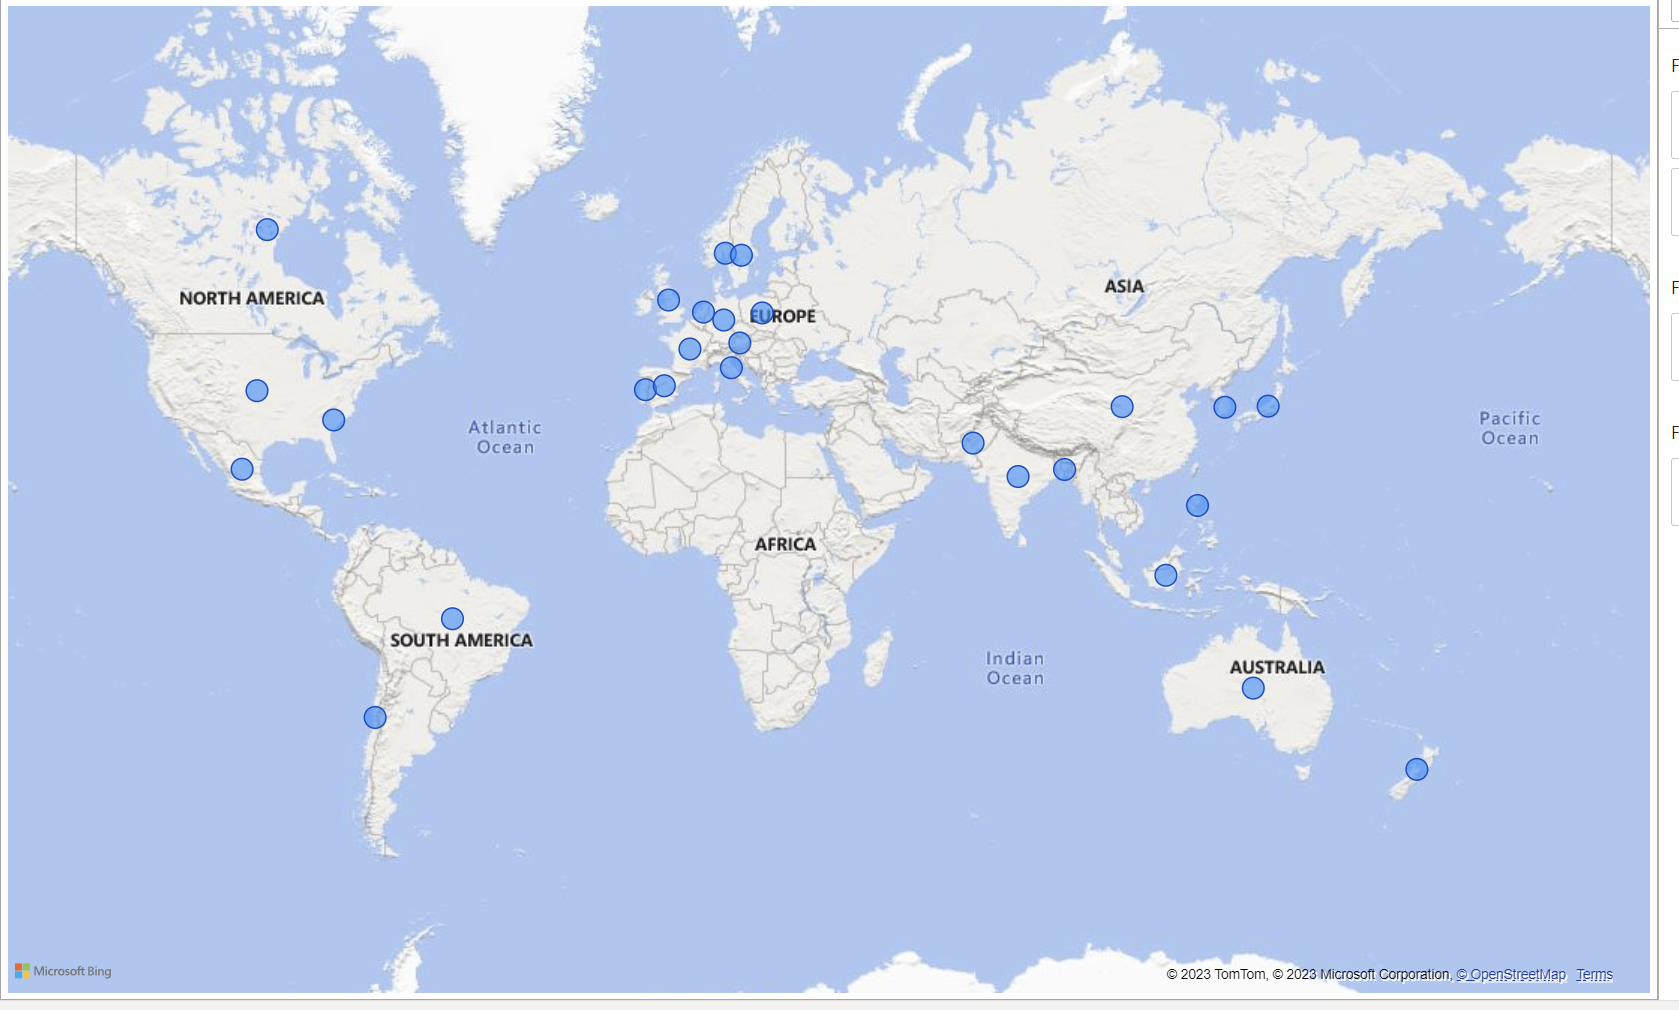

What the dashboard file says about the page in this screenshot:
{"tool":"powerbi","page":{"name":"Intro Map","canvas":[1280,720],"ordinal":0},"visuals":[{"type":"map","fields":{"Series":["gdb023 dim_customer.region"],"Category":["gdb023 dim_customer.market"]},"box":[10,0,1270,720],"z":0}]}

Visuals, with their boxes on the page's 1280x720 design canvas (x1, y1, x2, y2). These are canvas units, not pixel positions in the 1679x1010 screenshot, which may show the page scaled, cropped or inside an application window:
map - gdb023 dim_customer.region x gdb023 dim_customer.market: region(10, 0, 1280, 720)
